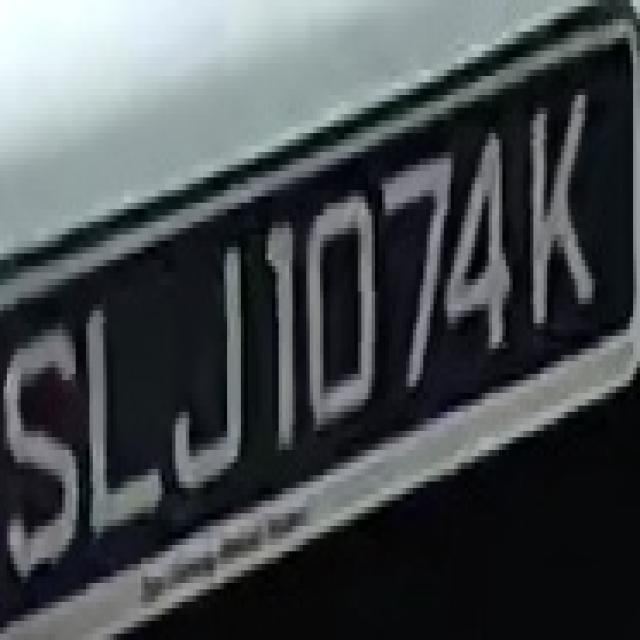0: (292, 184, 382, 444)
1: (258, 196, 306, 488)
4: (434, 102, 520, 400)
7: (375, 152, 451, 393)
J: (162, 228, 251, 501)
K: (523, 57, 602, 330)
L: (90, 279, 172, 551)
S: (3, 304, 86, 589)
